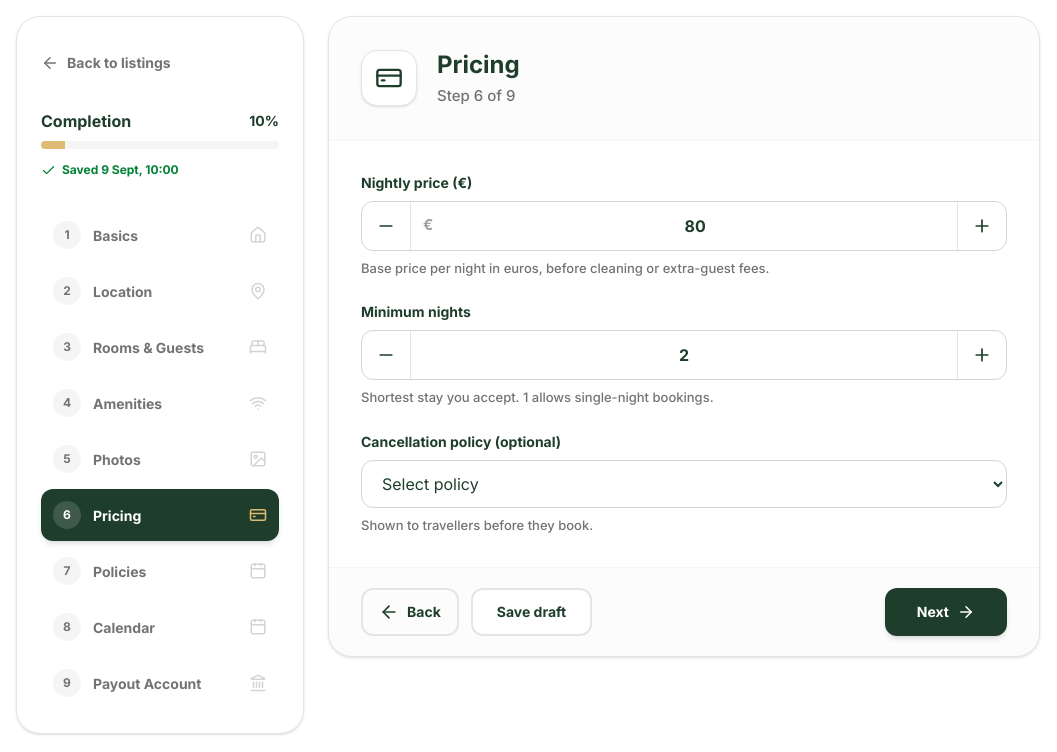
AccommodationForm save lifecycle and validation › shows an inline error for a zero price instead of substituting a value
The width and height of the screenshot is (1057, 752).
Replace the text in the field with id "listing-field-nightlyPrice" with "0" at [695, 226], box [433,202,957,250]
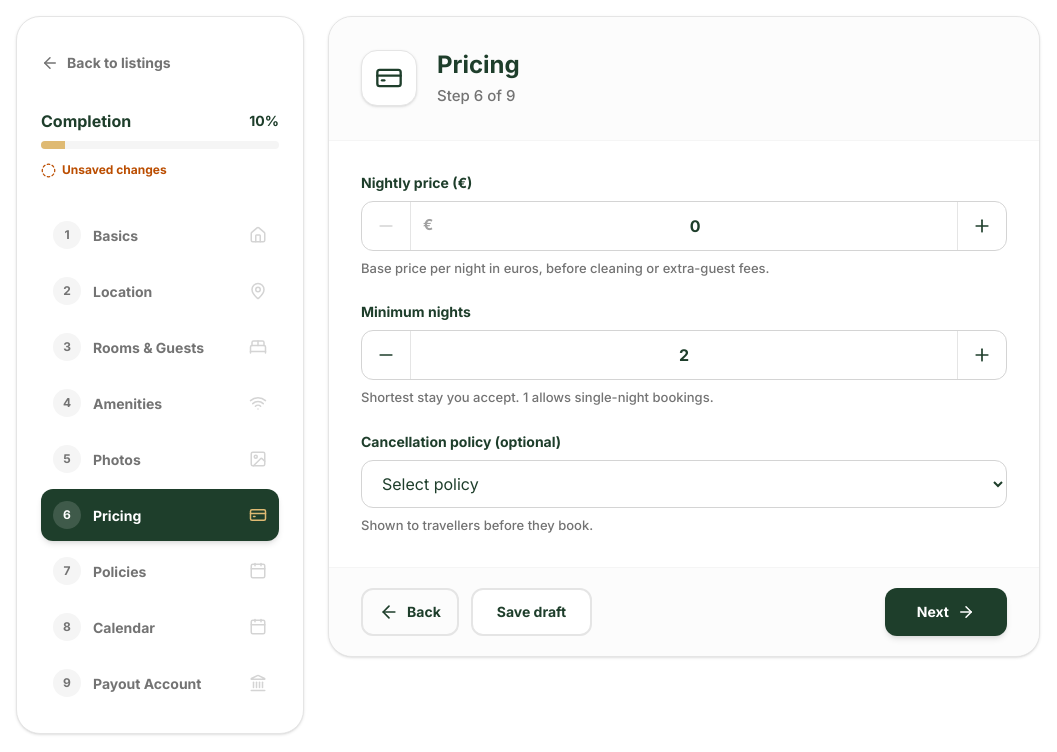
Click the button "Next".
click(946, 612)  # box [885,588,1007,636]
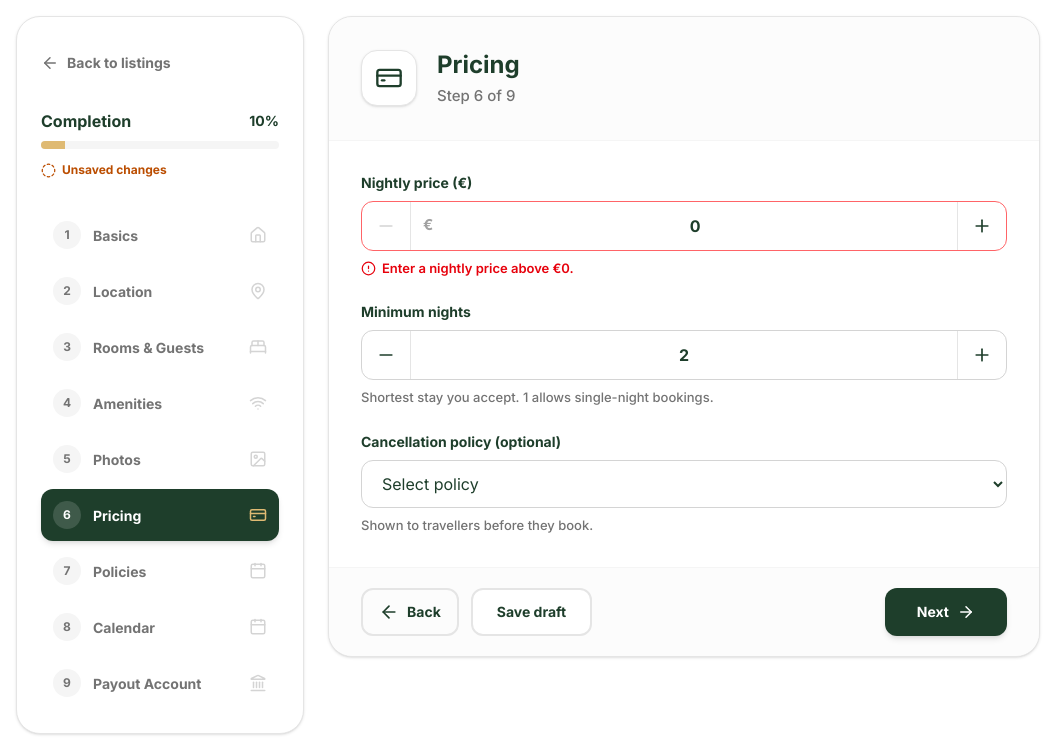
Expected: the text "Enter a nightly price above €0." is shown, [382,258,574,278]
